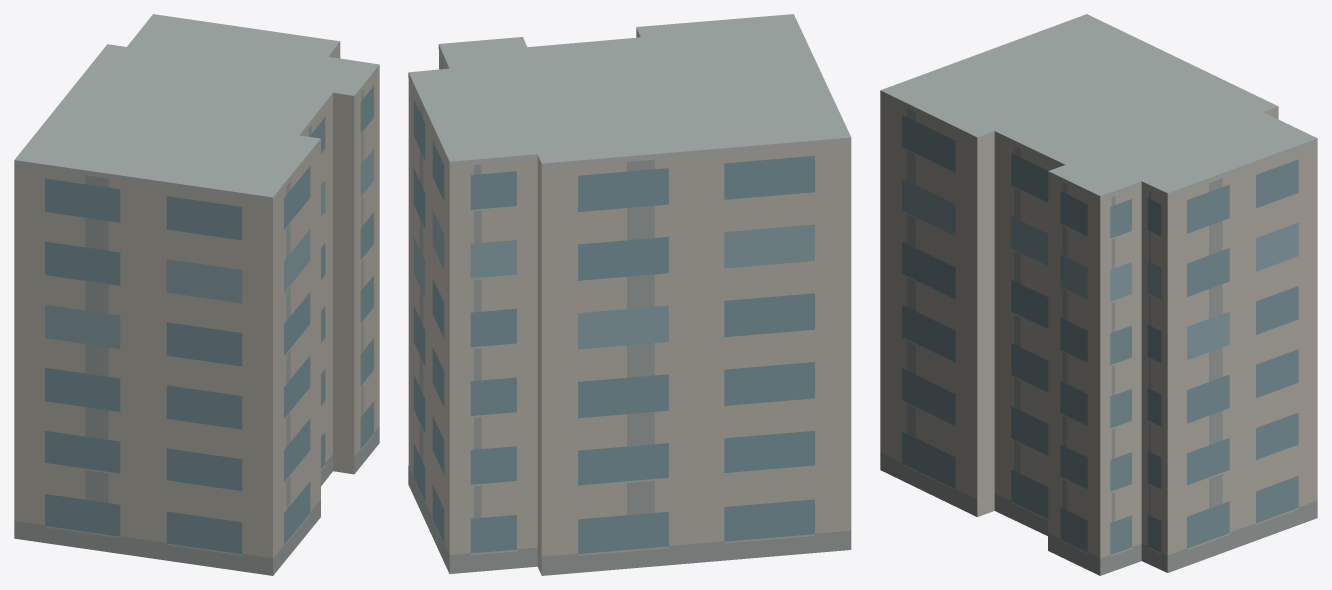
Rendered from survey-upis-32952321.glb.
3 renders of one model, left to right at view 1: azimuth 30°, elevation 25°; view 2: azimuth 150°, elevation 25°; view 3: azimuth 270°, elevation 25°, orthographic. The views are drawn at different scales.
Visible parts, largest first — view 1: survey-upis-32952321.tmp; view 2: survey-upis-32952321.tmp; view 3: survey-upis-32952321.tmp.
Boxes of the visible parts, x1,y1,x2,y2 form: survey-upis-32952321.tmp: [14, 14, 379, 575]; survey-upis-32952321.tmp: [408, 14, 851, 575]; survey-upis-32952321.tmp: [880, 14, 1317, 575].
Size of the model in its own units: 18.82 by 18.29 by 19.09.
